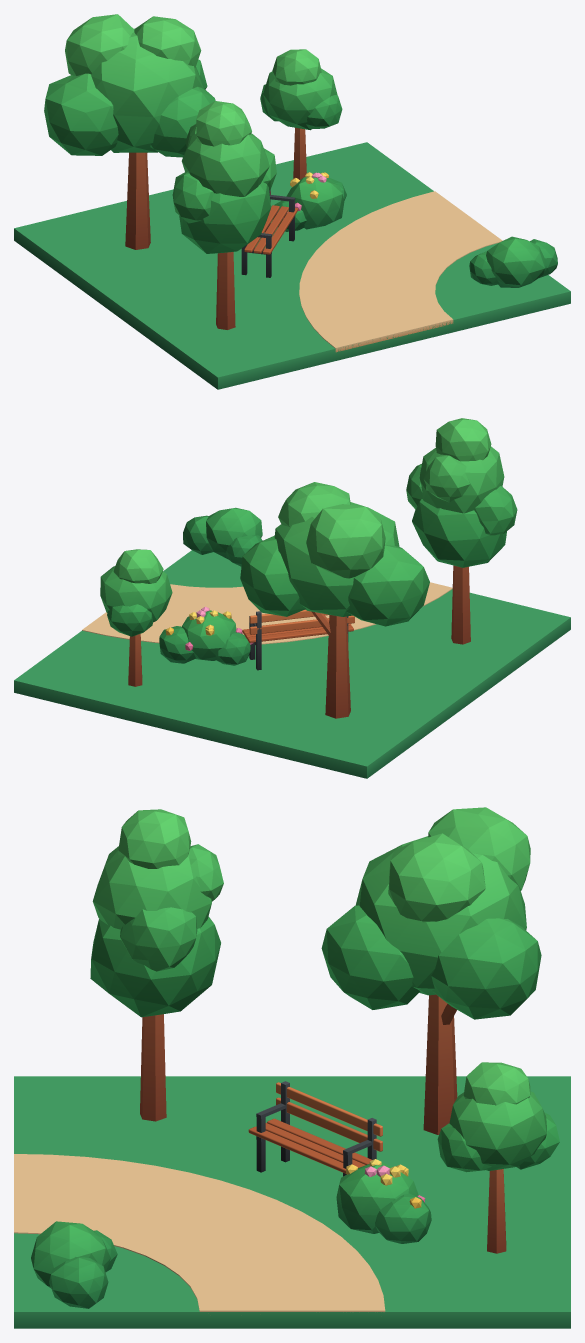
File: camino_curva_arboles.glb
The picture shows the model from 3 angles, top to bottom: view 1: azimuth 30°, elevation 25°; view 2: azimuth 150°, elevation 25°; view 3: azimuth 270°, elevation 25°; orthographic projection. The views are drawn at different scales.
Visible parts, largest first — view 1: camino_curva_arboles; view 2: camino_curva_arboles; view 3: camino_curva_arboles.
Part boxes in pixels (<box>): camino_curva_arboles: <box>14,14,570,389</box>; camino_curva_arboles: <box>14,418,570,778</box>; camino_curva_arboles: <box>14,807,570,1328</box>.
Size of the model in its own units: 6.3 by 3.8 by 6.
1 material, 1 textured.
